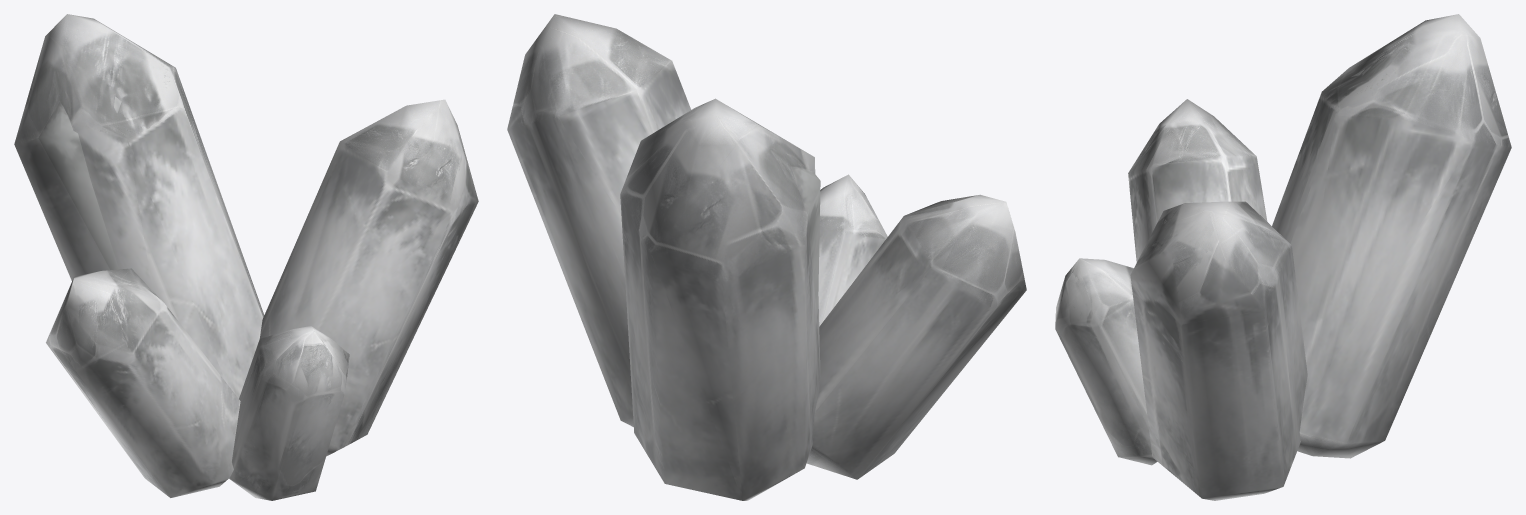
The model's file is crystal-shard-cluster.glb.
3 views of the same model, side by side, from view 1: azimuth 30°, elevation 25°; view 2: azimuth 150°, elevation 25°; view 3: azimuth 270°, elevation 25° (orthographic). The views are drawn at different scales.
Size of the model in its own units: 1 by 0.9092 by 0.9177.
1 material, 1 textured.
